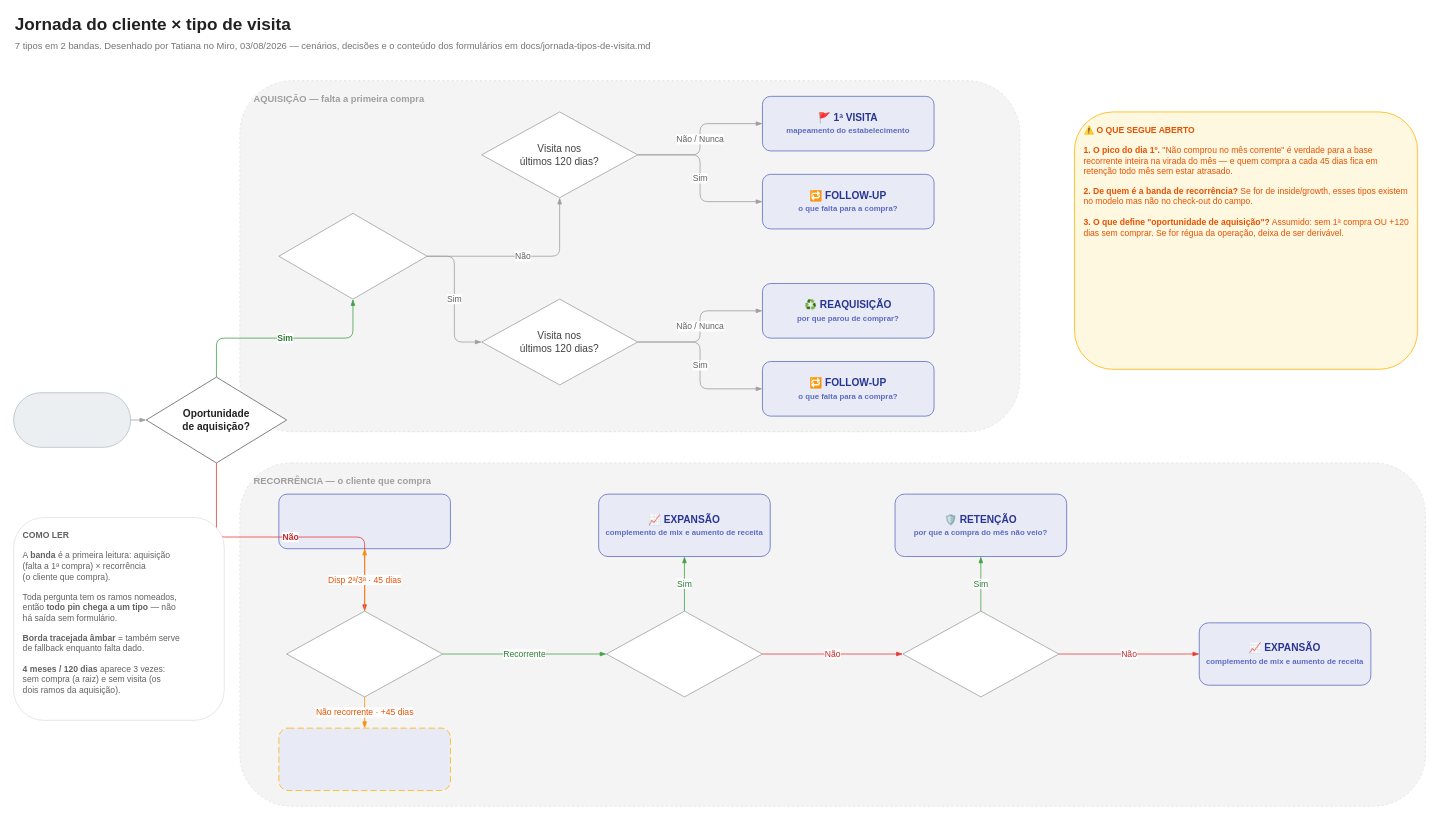
Some shapes in this 1439 by 820 pixel diagram are drawn without their labels. Here are the shapes that lost their labels. From the top down, the centre of each, then its label:
the point at 352,256: Já comprou na Praso?
the point at 72,419: Estabelecimento recebe visita
the point at 364,521: 🗓️ RECORRÊNCIA fechamento do onboarding
the point at 364,653: Estágio no funil de recorrência
the point at 684,653: Comprou no mês corrente?
the point at 980,653: Comprou no mês anterior?
the point at 364,759: 🤝 RELACIONAMENTO acompanhamento do cliente ⚠️ também é o fallback sem dado
